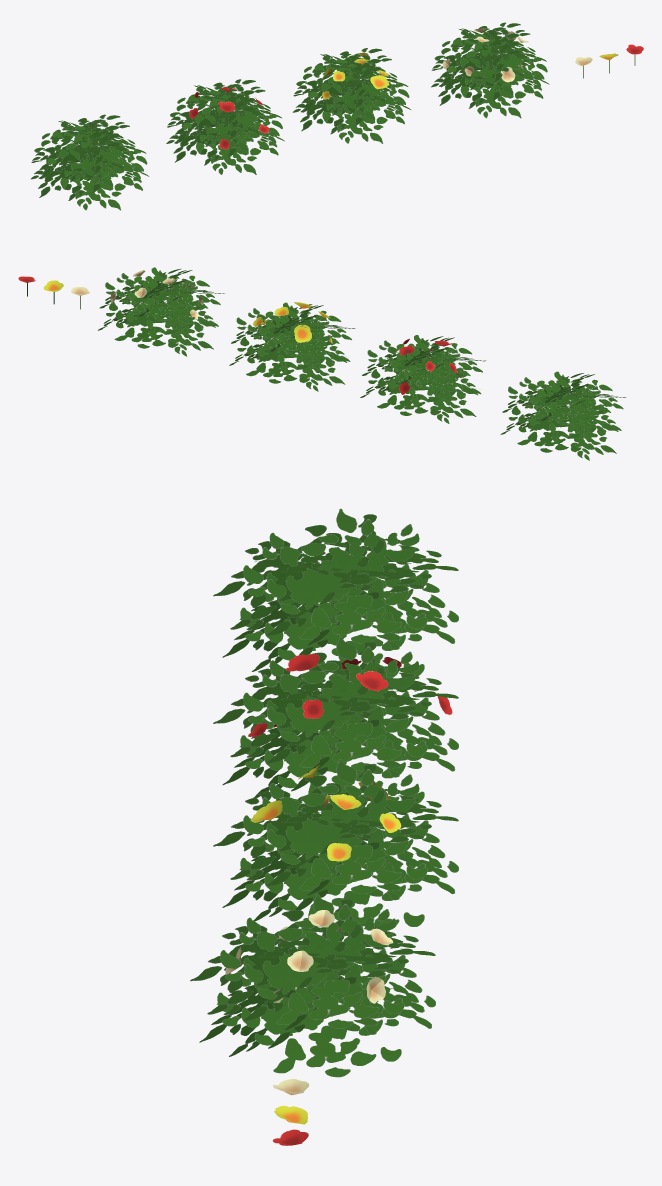
Rendered from grass_and_flower.fbx.
The picture shows the model from 3 angles, top to bottom: view 1: azimuth 30°, elevation 25°; view 2: azimuth 150°, elevation 25°; view 3: azimuth 270°, elevation 25°; orthographic projection. The views are drawn at different scales.
Visible parts, largest first — view 1: grass4, grass6, grass5, grass7; view 2: grass5, grass4, grass6, grass7; view 3: grass4, grass5, grass6, grass7.
Part boxes in pixels (x1,y1,x2,y2): grass4: (431,22,549,118); grass6: (166,79,284,174); grass5: (292,48,410,143); grass7: (31,114,149,210); grass5: (229,302,355,391); grass4: (97,267,224,356); grass6: (360,335,486,423); grass7: (500,371,626,460); grass4: (190,893,435,1077); grass5: (213,759,458,938); grass6: (213,636,458,811); grass7: (213,508,458,687).
Size of the model in its own units: 1249 by 135 by 300.
1 material, 1 textured.
